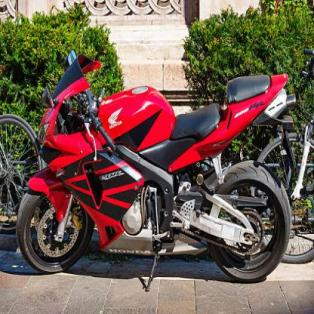Motocicleta: (13, 47, 292, 292)
